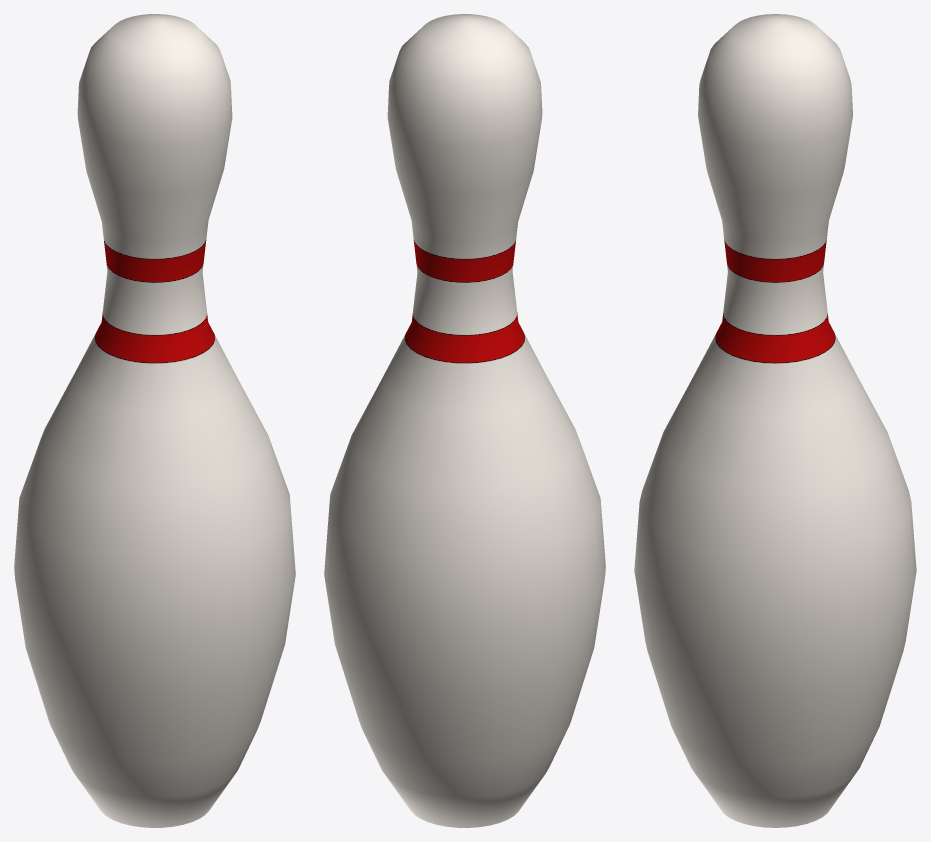
File: pin.gltf
The picture shows the model from 3 angles, left to right: view 1: azimuth 30°, elevation 25°; view 2: azimuth 150°, elevation 25°; view 3: azimuth 270°, elevation 25°; orthographic projection.
Visible parts, largest first — view 1: Cylinder; view 2: Cylinder; view 3: Cylinder.
Boxes of the visible parts, x1,y1,x2,y2 form: Cylinder: [14, 14, 295, 827]; Cylinder: [324, 14, 605, 827]; Cylinder: [634, 14, 916, 827].
Bounding box in the file's own units: 1.39 × 4.27 × 1.39.
1 material, 1 textured.
